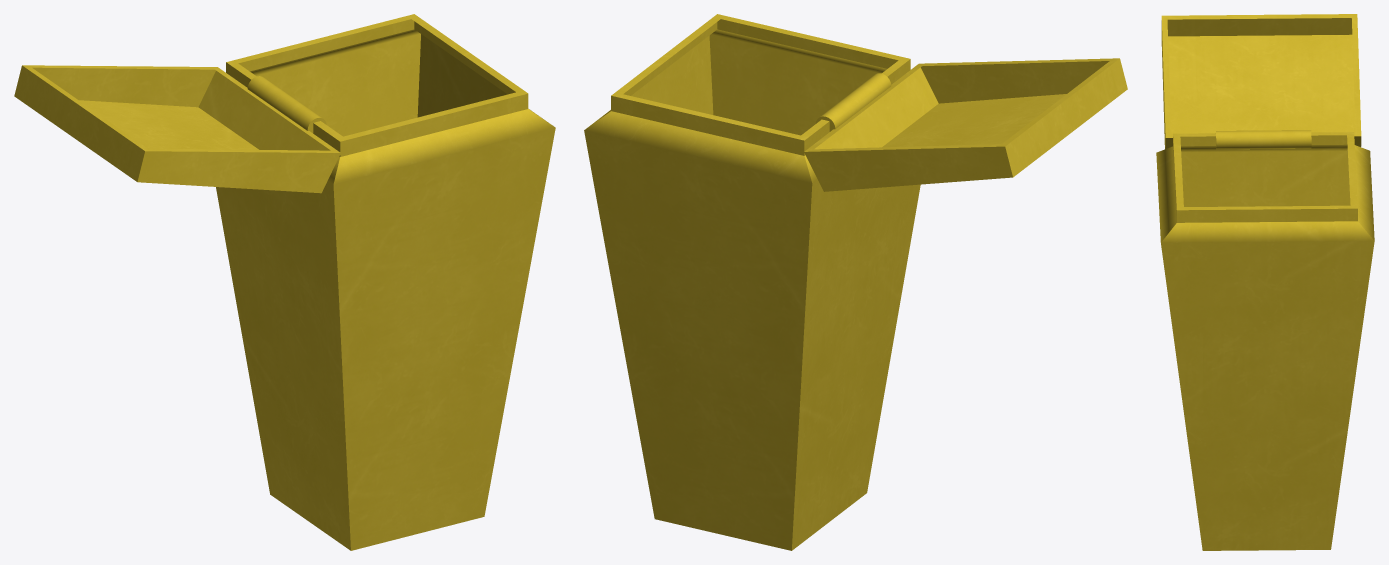
Rendered from Sc22_Bin.glb.
3 renders of one model, left to right at view 1: azimuth 30°, elevation 25°; view 2: azimuth 150°, elevation 25°; view 3: azimuth 270°, elevation 25°, orthographic. The views are drawn at different scales.
Parts seen in each view (by area): view 1: Bin.001; view 2: Bin.001; view 3: Bin.001.
Part boxes in pixels (x1=…): Bin.001: x1=14, y1=14, x2=555, y2=550; Bin.001: x1=584, y1=14, x2=1127, y2=550; Bin.001: x1=1156, y1=14, x2=1374, y2=550.
Size of the model in its own units: 1.85 by 1.98 by 1.01.
Materials: 1 (1 with a texture image).
